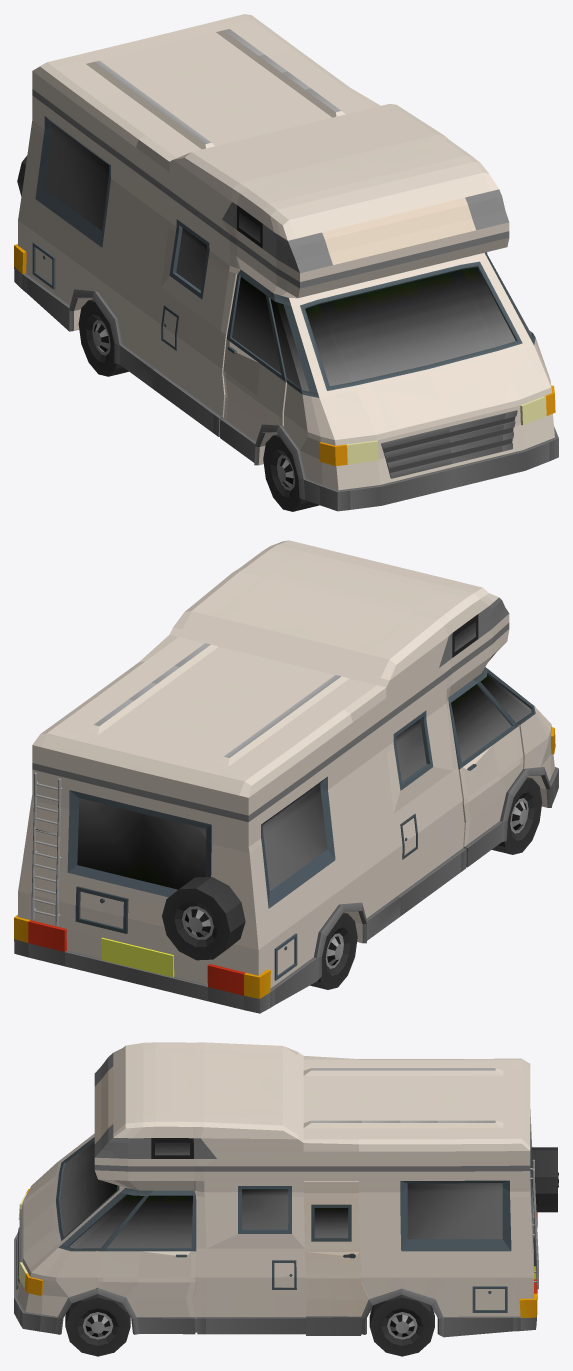
3 views of the same model, one above another, from view 1: azimuth 30°, elevation 25°; view 2: azimuth 150°, elevation 25°; view 3: azimuth 270°, elevation 25° (orthographic). The views are drawn at different scales.
Parts seen in each view (by area): view 1: Object_4; view 2: Object_4; view 3: Object_4.
Part boxes in pixels (box(x1,y1,x2,y2)): Object_4: box(14, 14, 558, 511); Object_4: box(14, 540, 558, 1013); Object_4: box(14, 1042, 558, 1356).
Bounding box in the file's own units: 2.47 × 2.57 × 5.6.
Materials: 1 (1 with a texture image).
